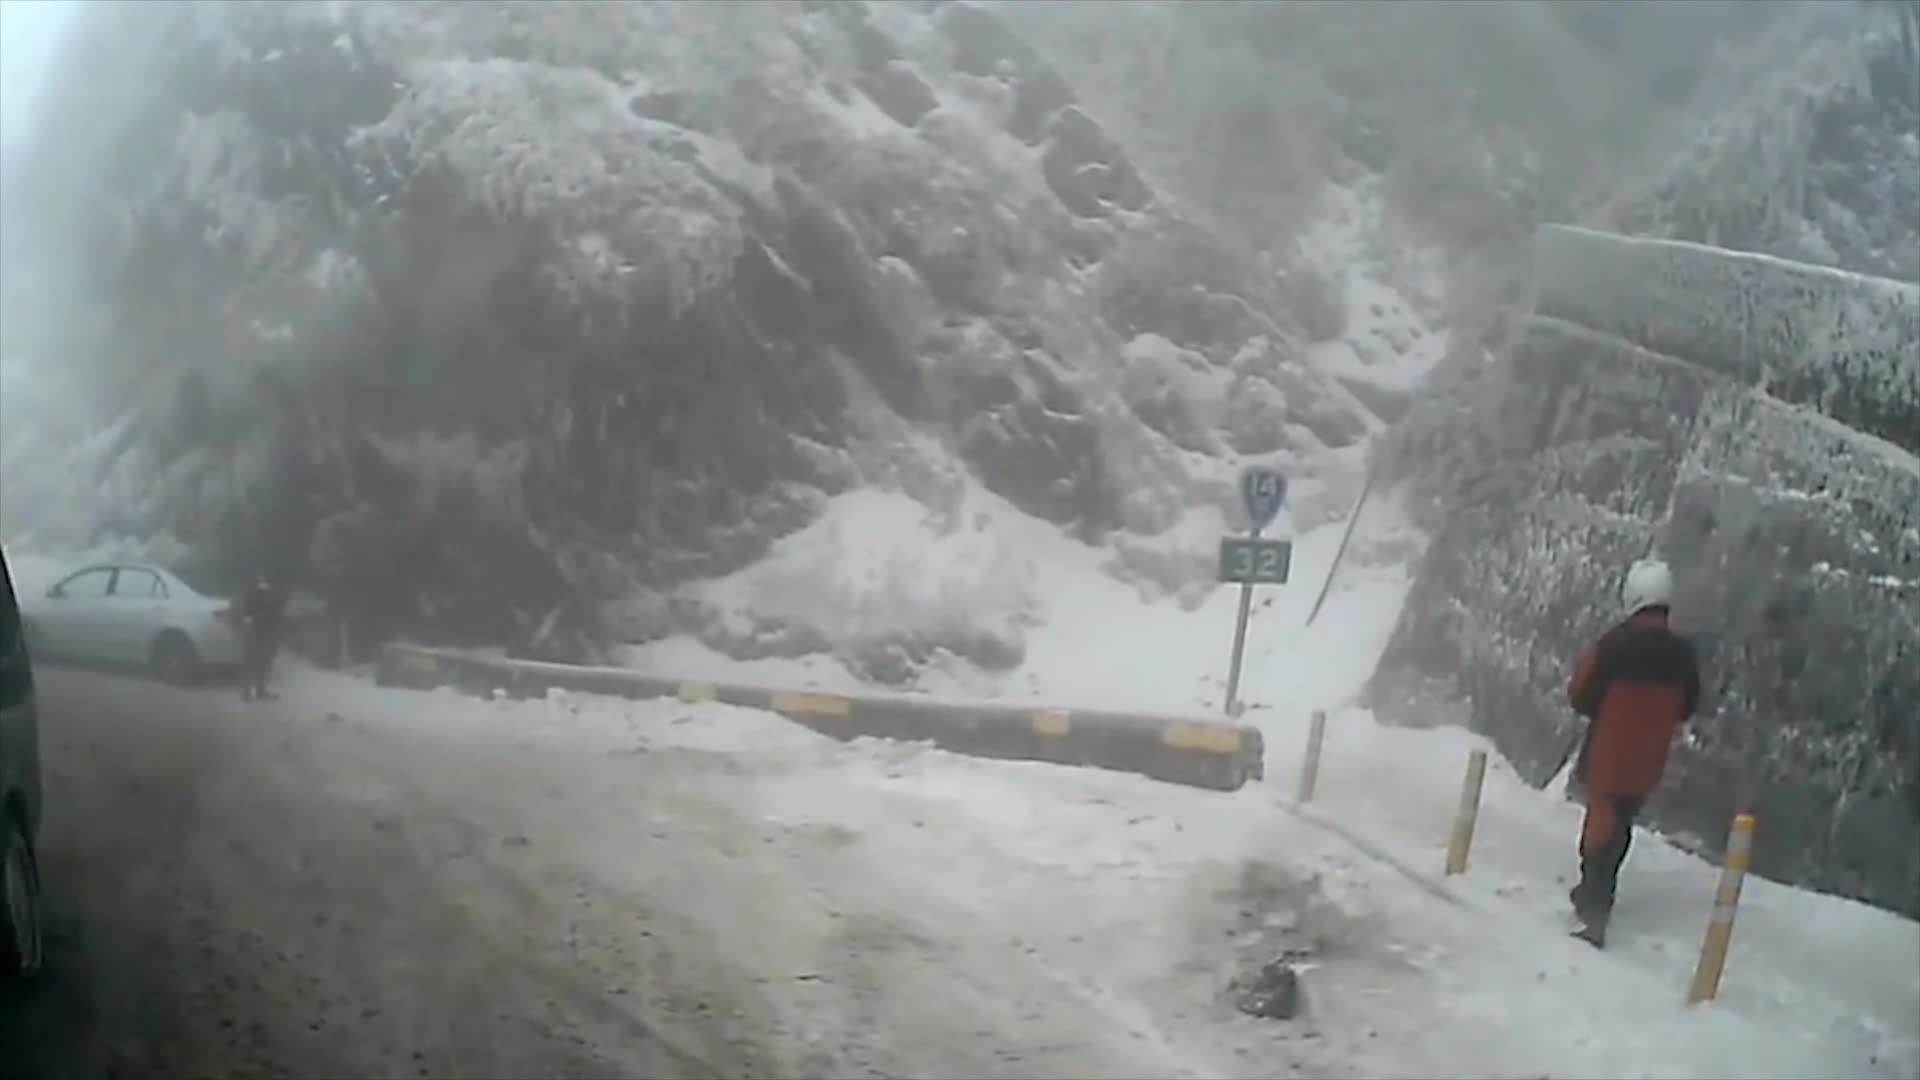pedestrian: (1566, 557, 1702, 950), (232, 565, 287, 697)
vehicle: (3, 557, 258, 683), (0, 542, 52, 1014)
